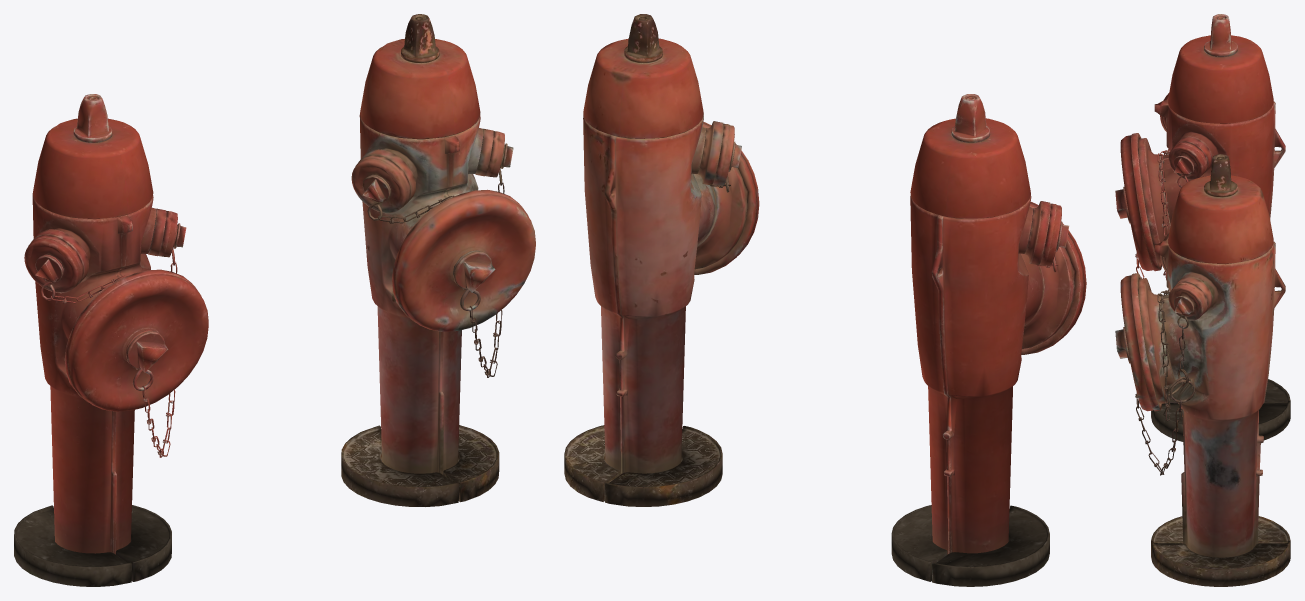
File: fire_hydrant.glb
3 views of the same model, side by side, from view 1: azimuth 30°, elevation 25°; view 2: azimuth 150°, elevation 25°; view 3: azimuth 270°, elevation 25° (orthographic). The views are drawn at different scales.
Parts seen in each view (by area): view 1: fire_hydrant, fire_hydrant_aged; view 2: fire_hydrant, fire_hydrant_aged; view 3: fire_hydrant_aged, fire_hydrant.
Boxes of the visible parts, left/top/right/bottom form: fire_hydrant: left=14, top=94, right=208, bottom=586; fire_hydrant_aged: left=341, top=14, right=535, bottom=506; fire_hydrant: left=891, top=94, right=1086, bottom=586; fire_hydrant_aged: left=564, top=14, right=759, bottom=506; fire_hydrant_aged: left=1115, top=154, right=1290, bottom=586; fire_hydrant: left=1115, top=14, right=1290, bottom=441.
Bounding box in the file's own units: 0.8745 × 0.7994 × 0.3173.
Materials: 2 (2 with a texture image).
